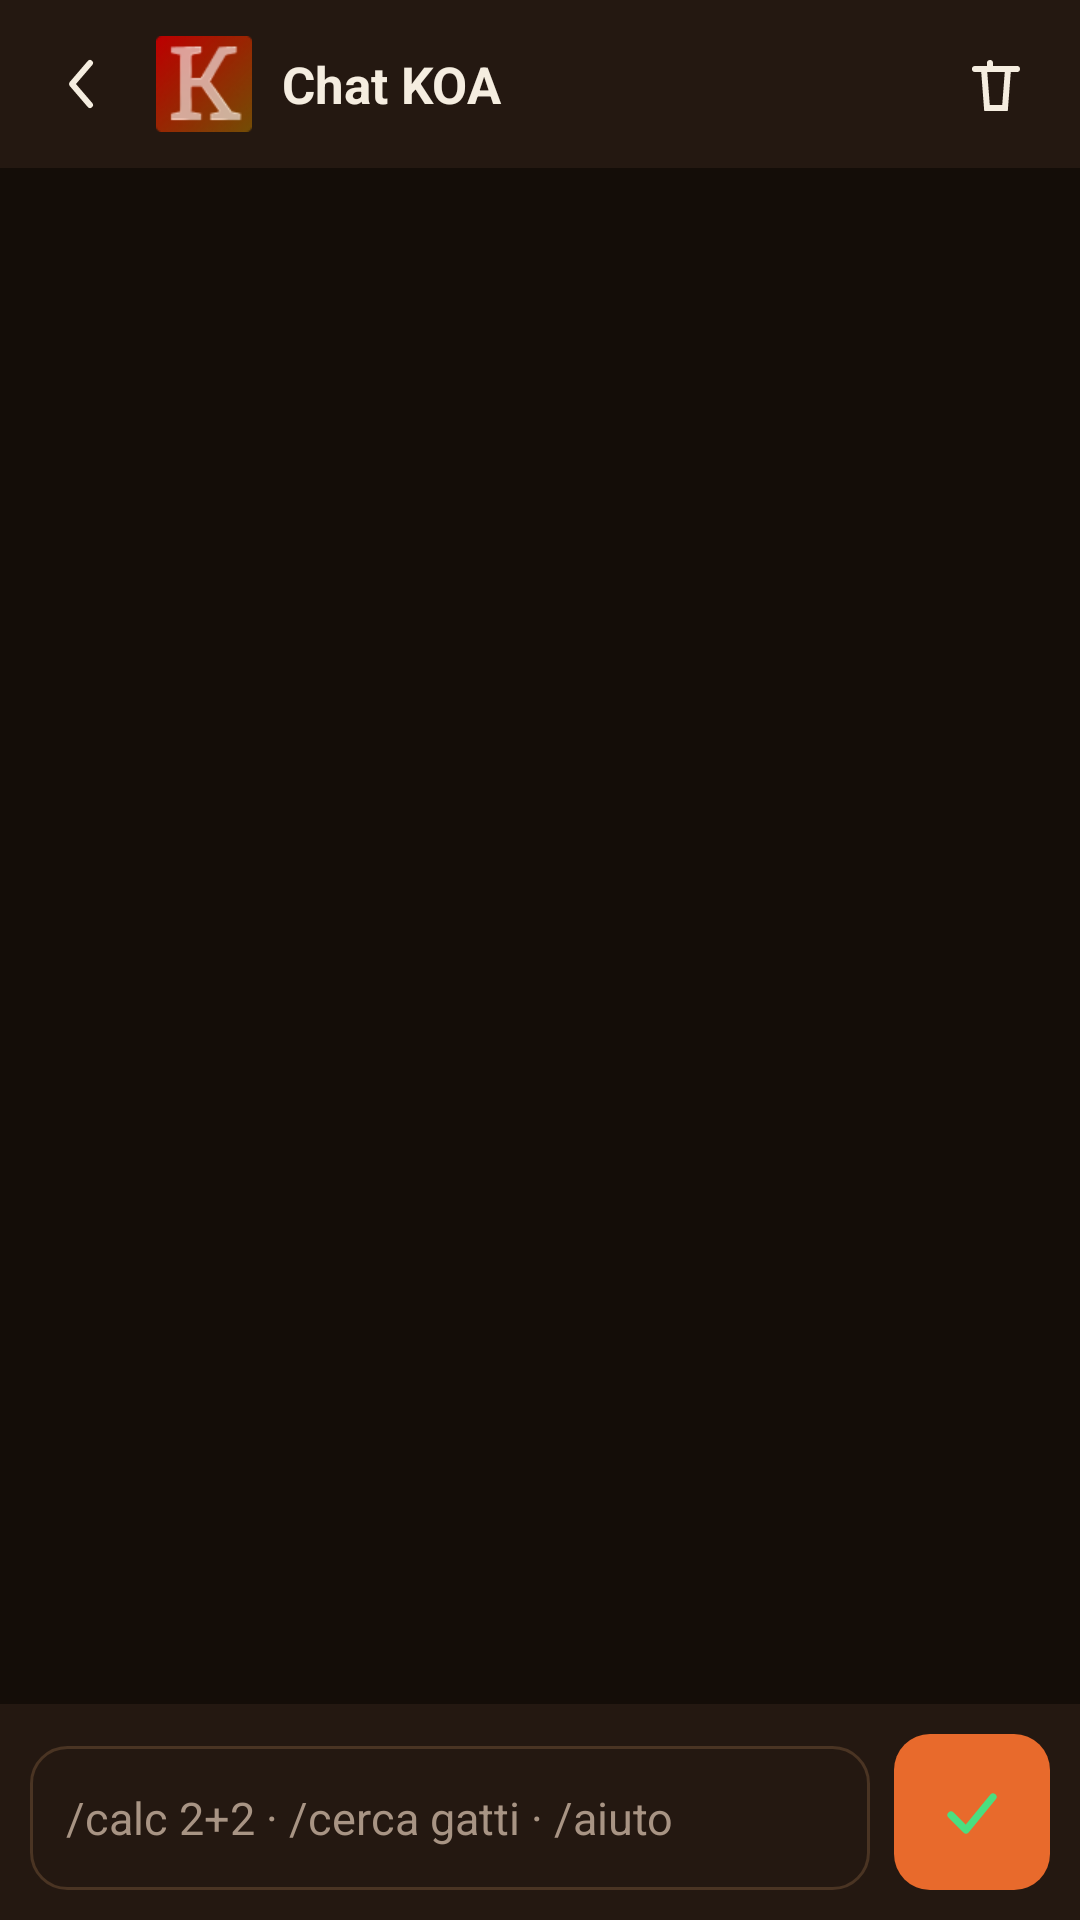

Named icons in this screenshot (1080w x 1920h) and their centers, (x,y):
Indietro: (81,84)
Invia: (972,1812)
Svuota chat: (996,85)
